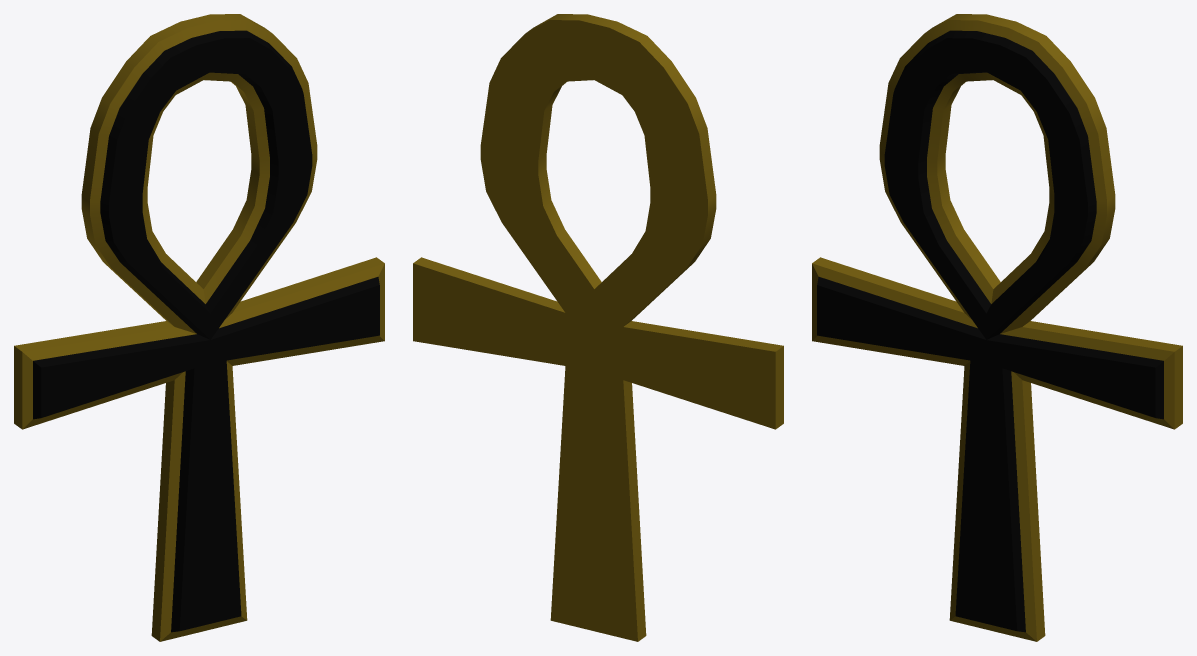
The model's file is Jeroglifico 3.fbx.
3 views of the same model, side by side, from view 1: azimuth 30°, elevation 25°; view 2: azimuth 150°, elevation 25°; view 3: azimuth 330°, elevation 25° (orthographic).
Parts seen in each view (by area): view 1: pCube1; view 2: pCube1; view 3: pCube1.
Boxes of the visible parts, left/top/right/bottom form: pCube1: left=14, top=14, right=384, bottom=641; pCube1: left=413, top=14, right=783, bottom=641; pCube1: left=812, top=14, right=1182, bottom=641.
Size of the model in its own units: 331 by 530 by 24.04.
